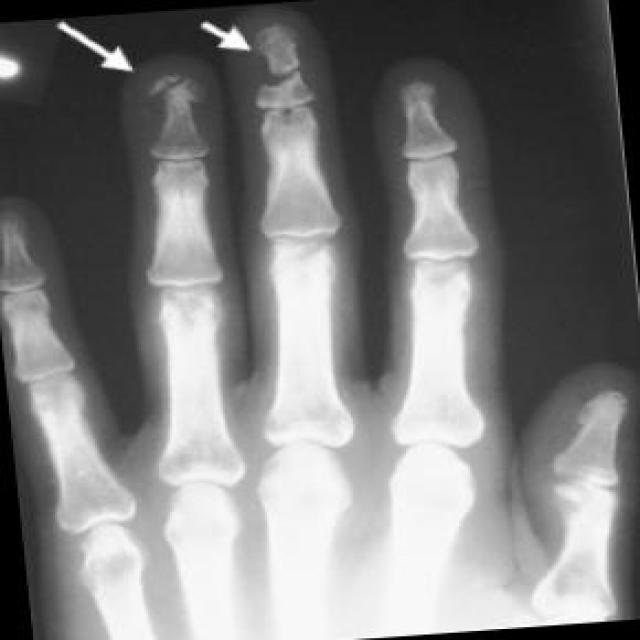Comminuted: (147, 64, 211, 122)
Segmental: (240, 14, 333, 148)
